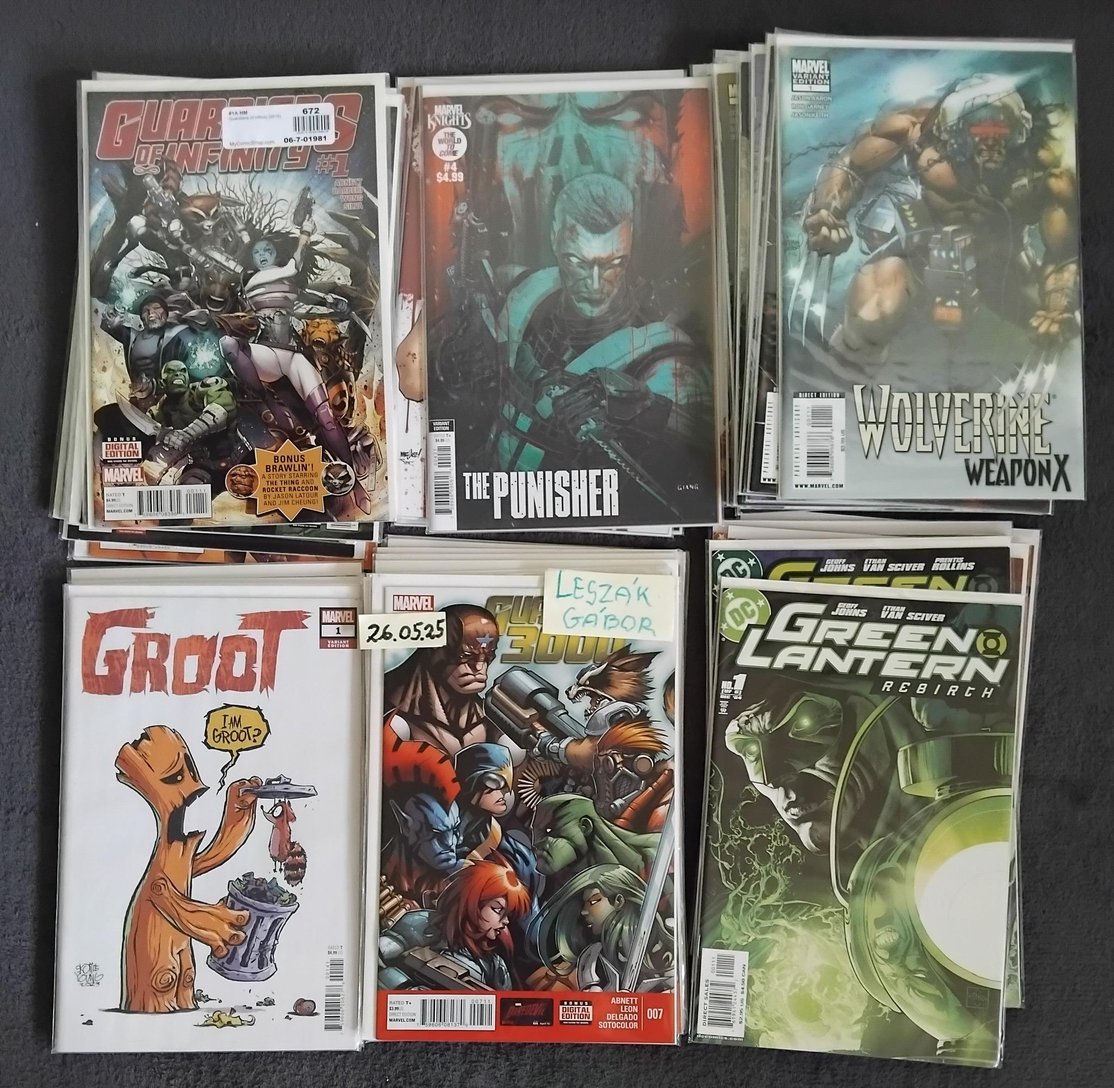comic: (688, 575, 1031, 1066), (365, 573, 688, 1042), (54, 574, 366, 1055), (773, 28, 1085, 503), (418, 74, 722, 532), (81, 76, 389, 525)
